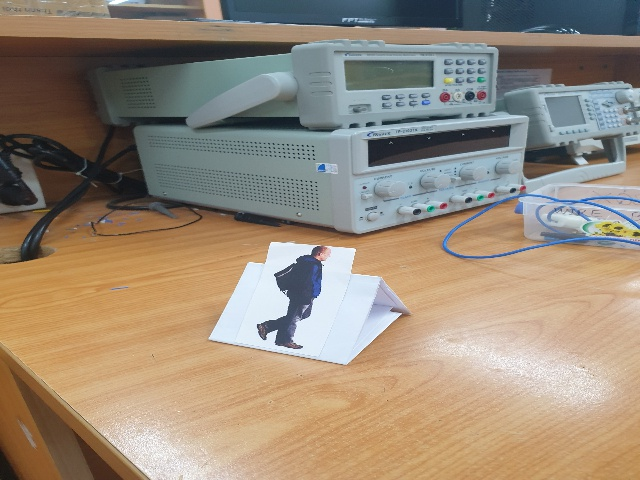Person: (256, 245, 333, 354)
